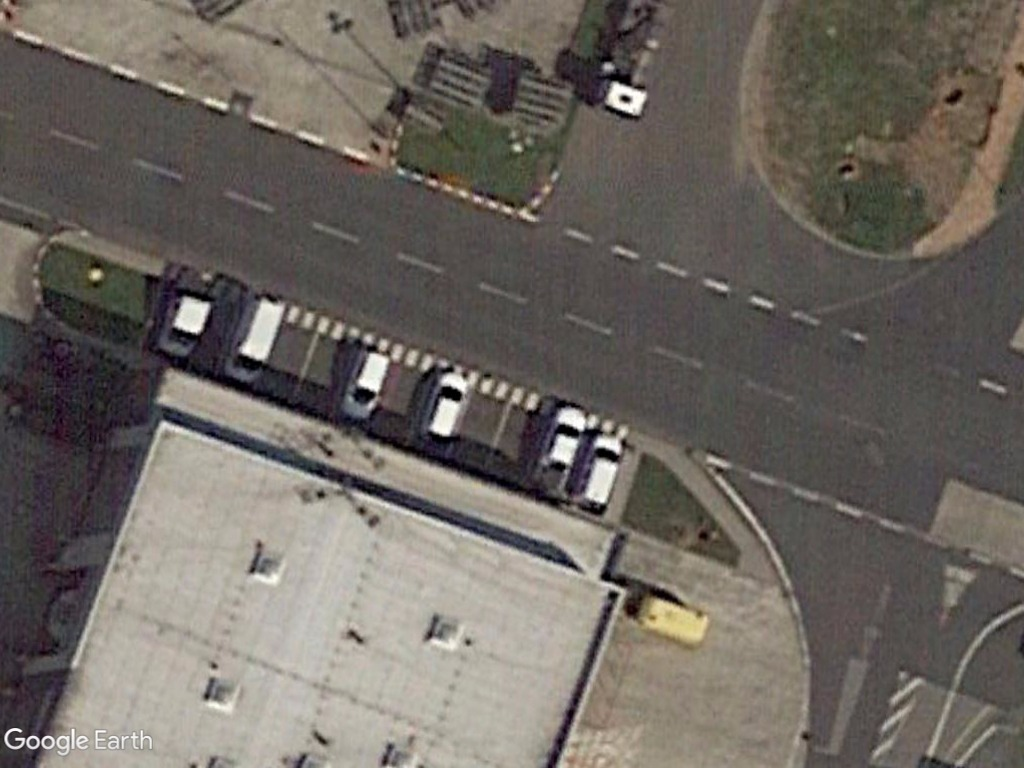car: (529, 395, 591, 485), (571, 430, 634, 514), (335, 341, 394, 427), (417, 363, 471, 445)
van: (220, 293, 292, 390)
